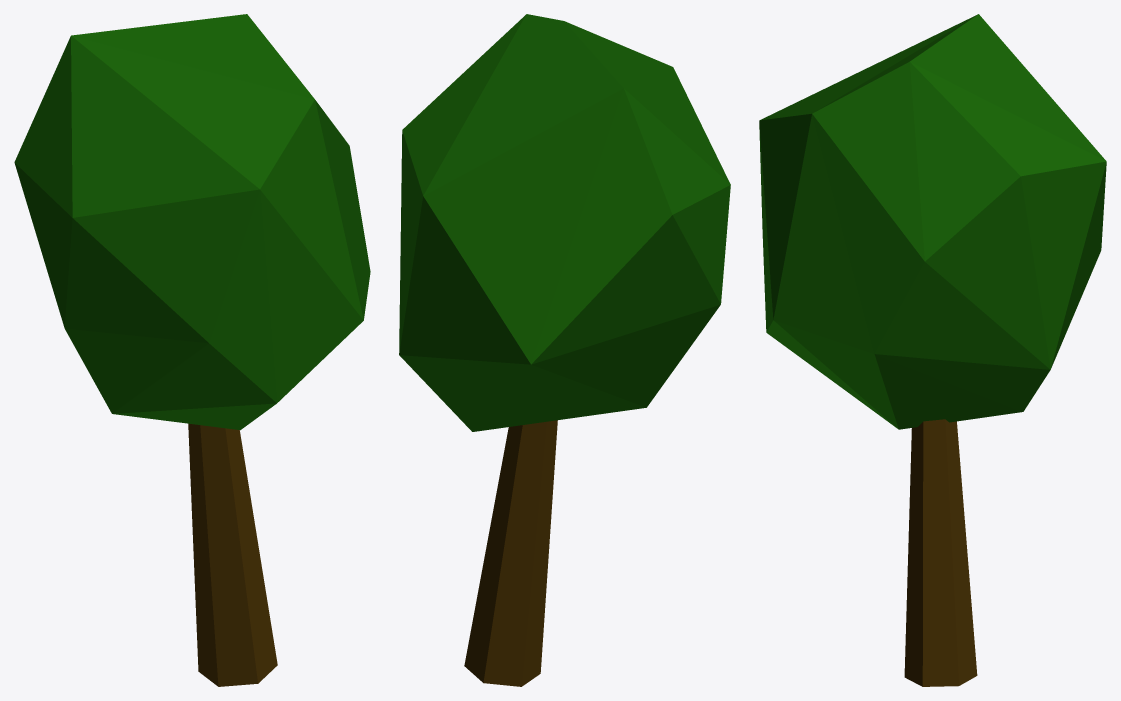
The model's file is Tree1.fbx.
3 views of the same model, side by side, from view 1: azimuth 30°, elevation 25°; view 2: azimuth 150°, elevation 25°; view 3: azimuth 270°, elevation 25° (orthographic). The views are drawn at different scales.
Visible parts, largest first — view 1: Cylinder.006; view 2: Cylinder.006; view 3: Cylinder.006.
Part boxes in pixels (left/top/right/bottom): Cylinder.006: left=14, top=14, right=370, bottom=686; Cylinder.006: left=399, top=14, right=730, bottom=686; Cylinder.006: left=759, top=14, right=1106, bottom=686.
Size of the model in its own units: 881 by 1865 by 955.
